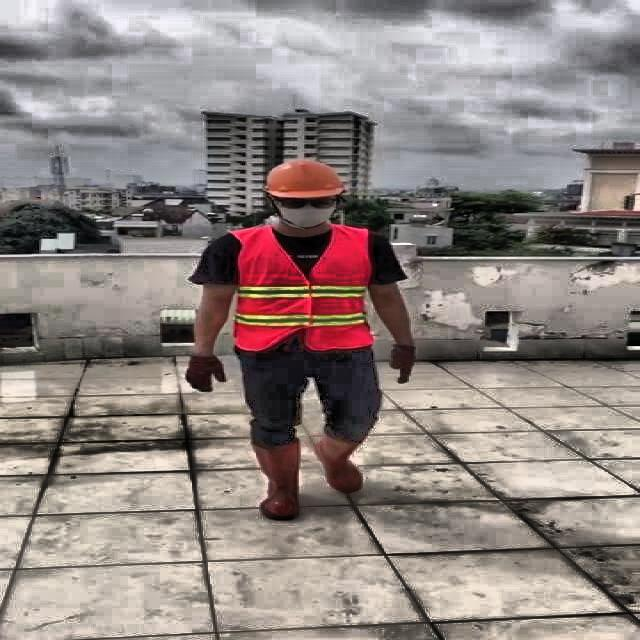safety_helmet: (259, 158, 341, 202)
safety_jacket: (231, 227, 375, 353)
